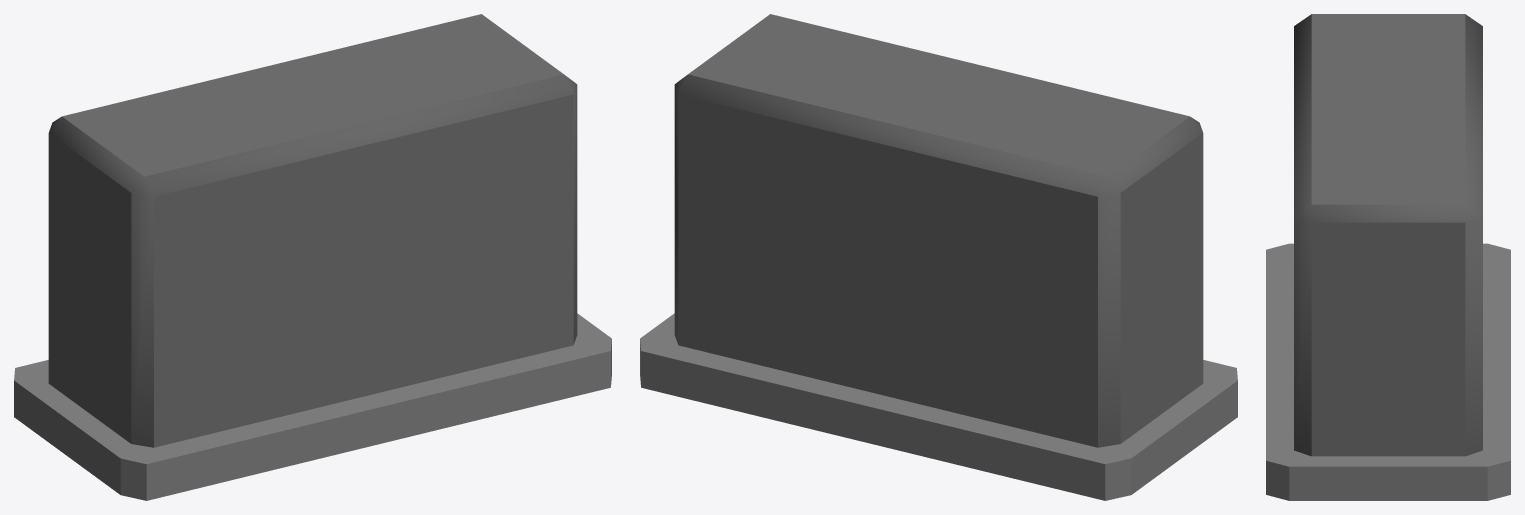
The model's file is ChimneyWall_1_A.fbx.
The picture shows the model from 3 angles, left to right: view 1: azimuth 30°, elevation 25°; view 2: azimuth 150°, elevation 25°; view 3: azimuth 270°, elevation 25°; orthographic projection. The views are drawn at different scales.
Parts seen in each view (by area): view 1: ChimneyWall_1_A; view 2: ChimneyWall_1_A; view 3: ChimneyWall_1_A.
Boxes of the visible parts, box(x1,y1,x2,y2) form: ChimneyWall_1_A: box(14, 14, 611, 500); ChimneyWall_1_A: box(640, 14, 1237, 500); ChimneyWall_1_A: box(1266, 14, 1510, 500).
Bounding box in the file's own units: 244 × 143 × 113.
